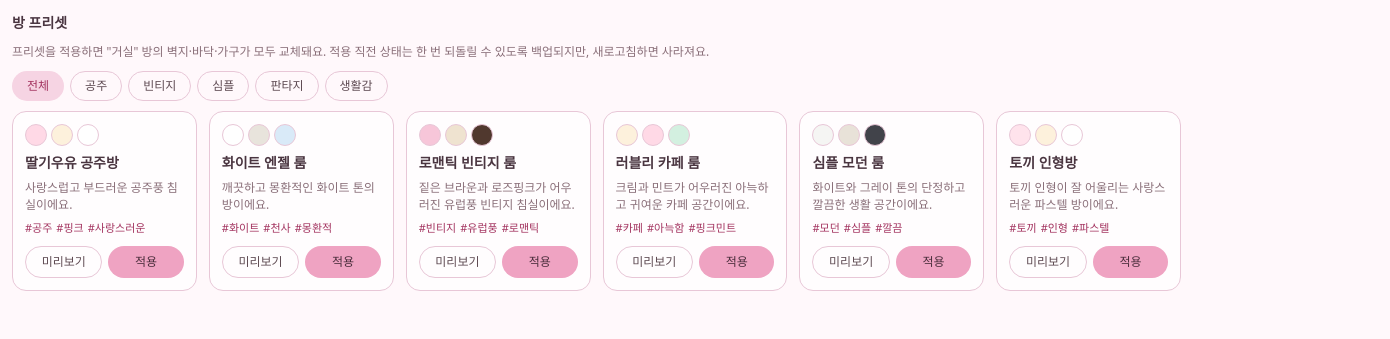
Test case: decorPresetApply: 적용/미리보기/백업/되돌리기 › 백업과 되돌리기 › UI에서 적용 확인 후 되돌리기 버튼이 나타나고, 클릭하면 원래 배치로 복원된다
Click the button "적용" below "사랑스럽고 부드러운 공주풍 침실이에요." at (146, 262), box [108,246,184,278]
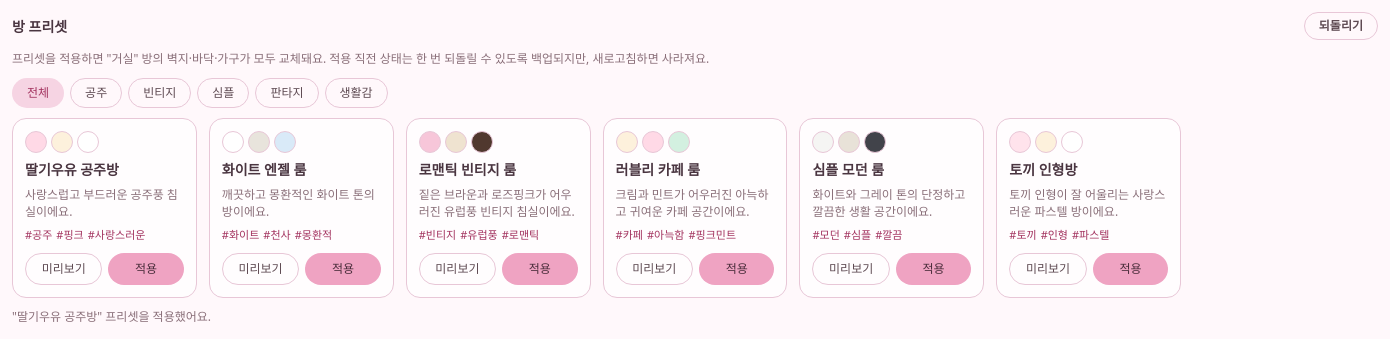
Result: the button "되돌리기" is shown
Click the button "되돌리기" at (1341, 26), box [1304,12,1378,40]
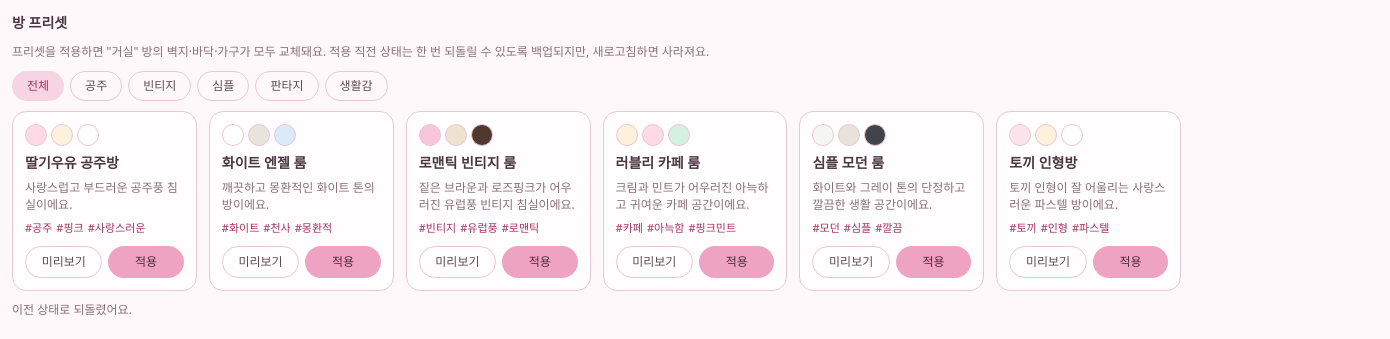
Result: the button "되돌리기" is gone
